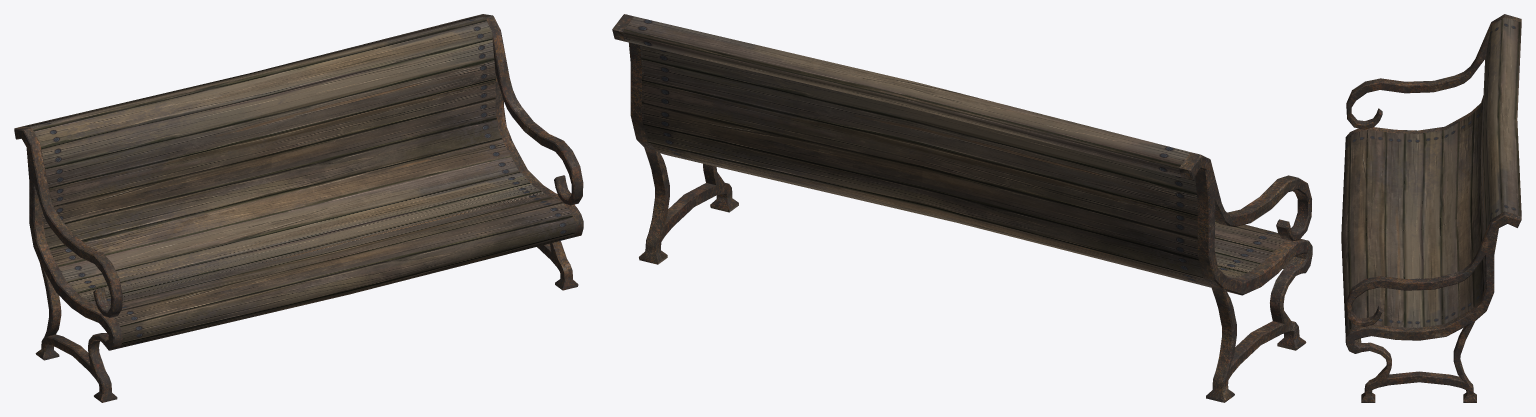
File: Bench.FBX
The picture shows the model from 3 angles, left to right: view 1: azimuth 30°, elevation 25°; view 2: azimuth 150°, elevation 25°; view 3: azimuth 270°, elevation 25°; orthographic projection. The views are drawn at different scales.
Parts seen in each view (by area): view 1: Bench; view 2: Bench; view 3: Bench.
Boxes of the visible parts, x1,y1,x2,y2 form: Bench: (14,14,583,402); Bench: (612,14,1312,402); Bench: (1341,14,1521,402).
Bounding box in the file's own units: 317 × 118 × 135.
